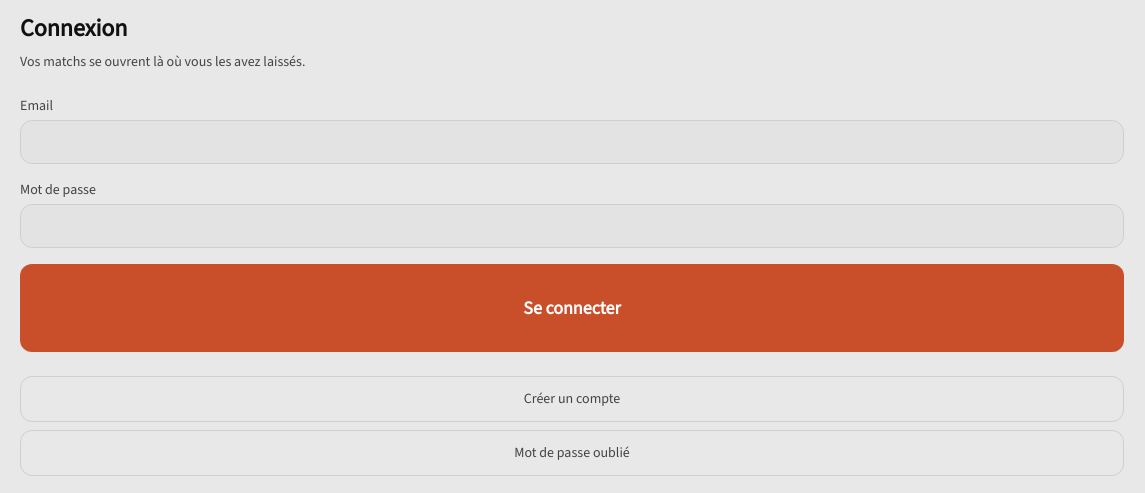
Test: écran d'authentification › demande un lien, sans promettre un email
Step 1. Click the button "Mot de passe oublié" → (572, 453), box x1=20 y1=430 x2=1124 y2=476
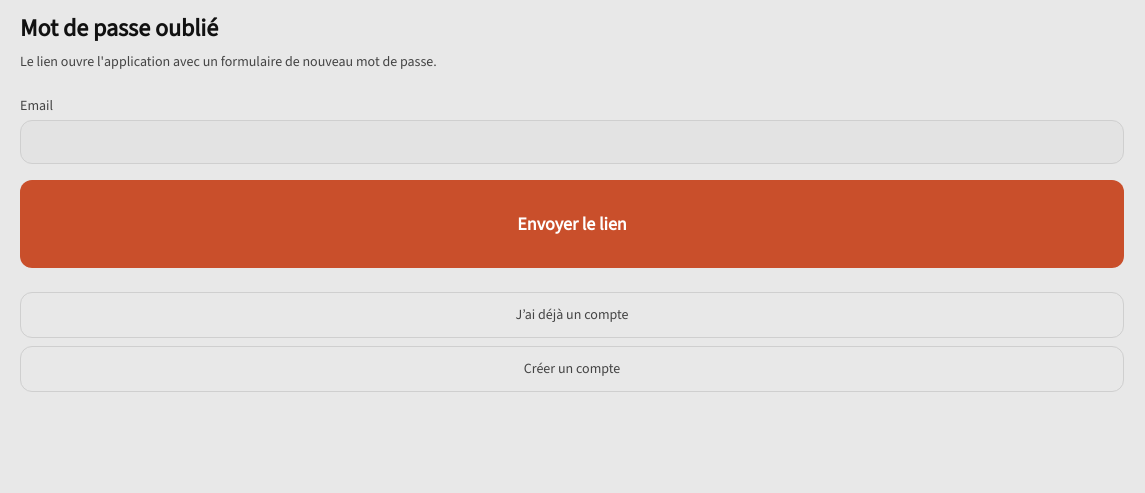
Step 2. Type "coach@gymnase.fr" into the field labelled "Email" → (572, 142), box x1=20 y1=120 x2=1124 y2=164
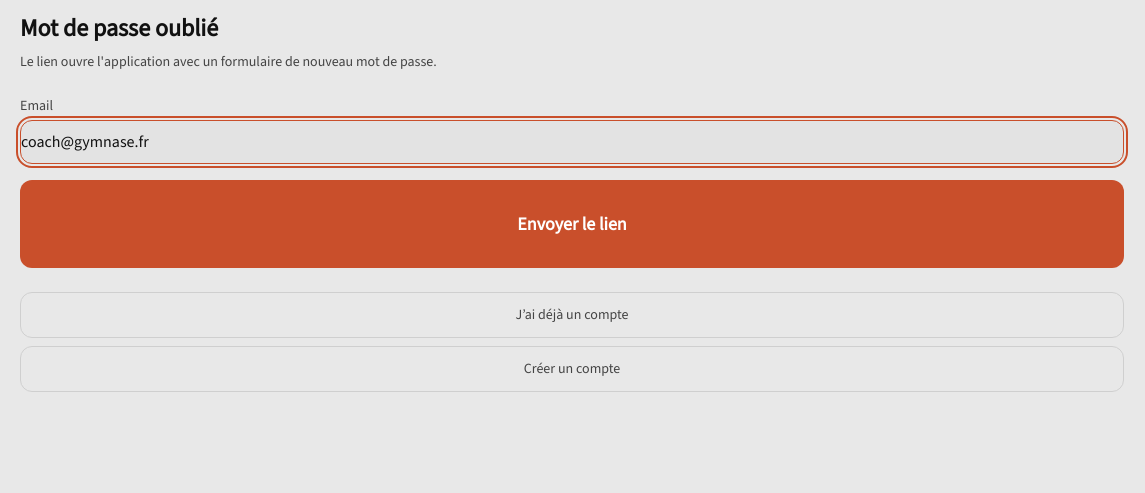
Step 3. Click the button "Envoyer le lien" → (572, 224), box x1=20 y1=180 x2=1124 y2=268
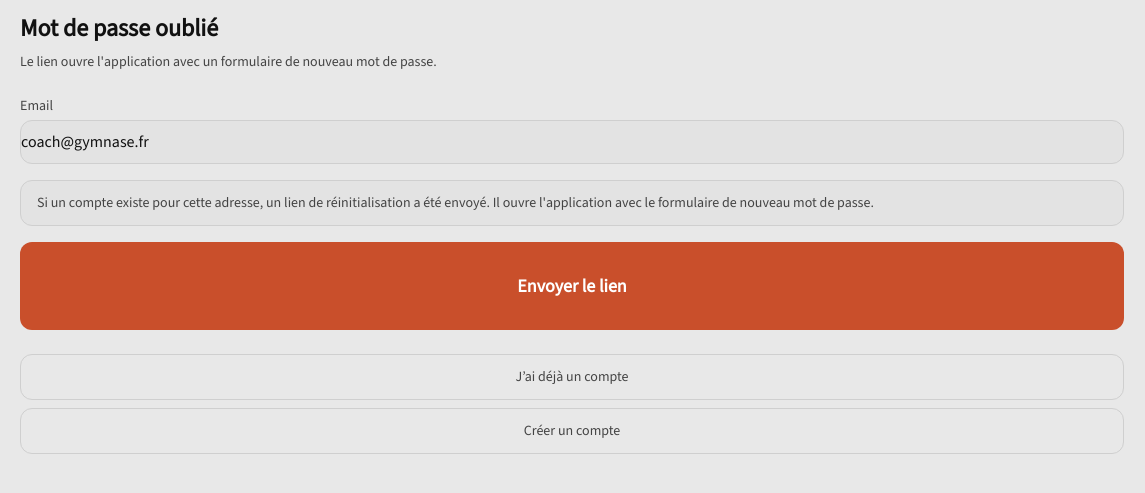
Check: the text "Si un compte existe" is shown, box x1=37 y1=193 x2=874 y2=212
